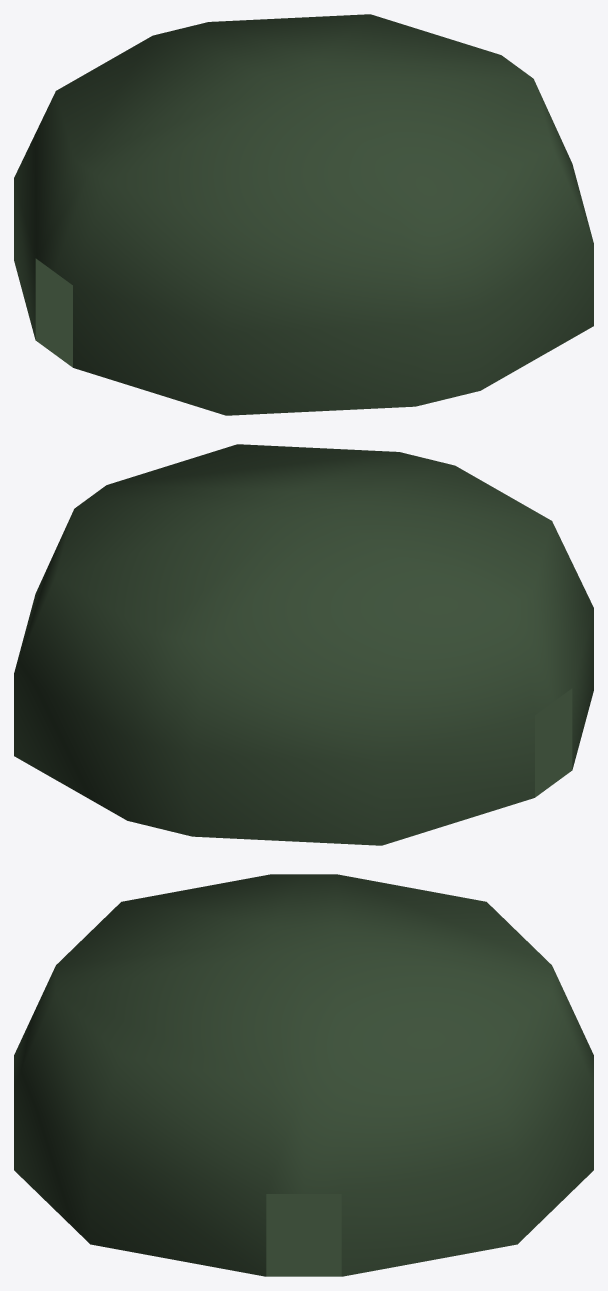
File: Room_2.fbx
3 renders of one model, top to bottom at view 1: azimuth 30°, elevation 25°; view 2: azimuth 150°, elevation 25°; view 3: azimuth 270°, elevation 25°, orthographic.
Visible parts, largest first — view 1: Room Inset Floor; view 2: Room Inset Floor; view 3: Room Inset Floor.
Boxes of the visible parts, x1=… form: Room Inset Floor: x1=14, y1=14, x2=593, y2=415; Room Inset Floor: x1=14, y1=444, x2=593, y2=845; Room Inset Floor: x1=14, y1=874, x2=593, y2=1276.
Bounding box in the file's own units: 1200 × 525 × 1200.
